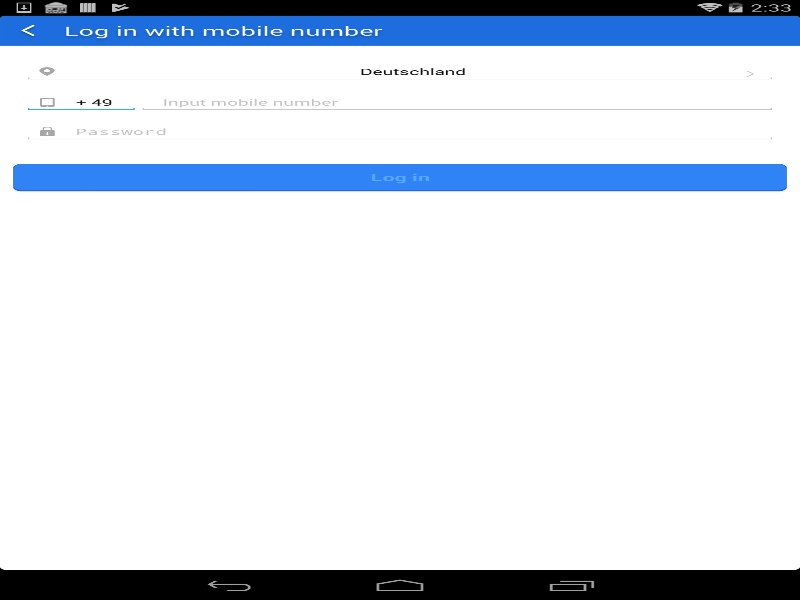Button: (13, 161, 786, 193), (0, 15, 64, 45)
Input: (28, 109, 772, 139), (142, 96, 772, 109), (28, 96, 134, 109)
